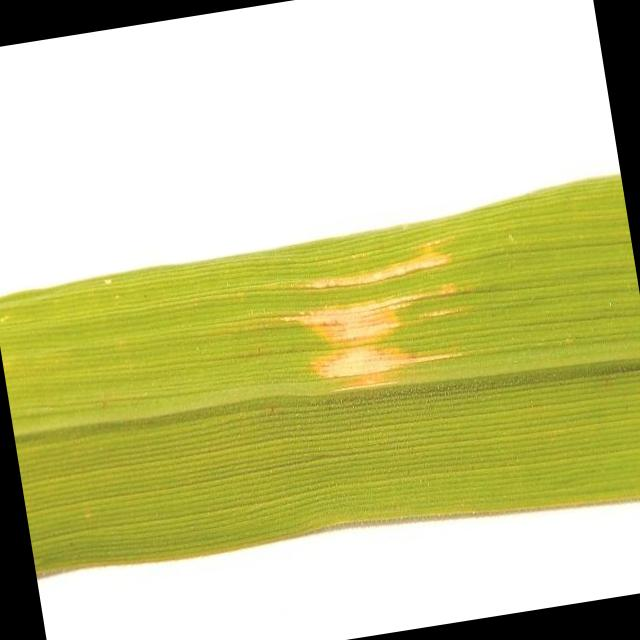Rice_Bacterial_Blight: (241, 200, 500, 446)
